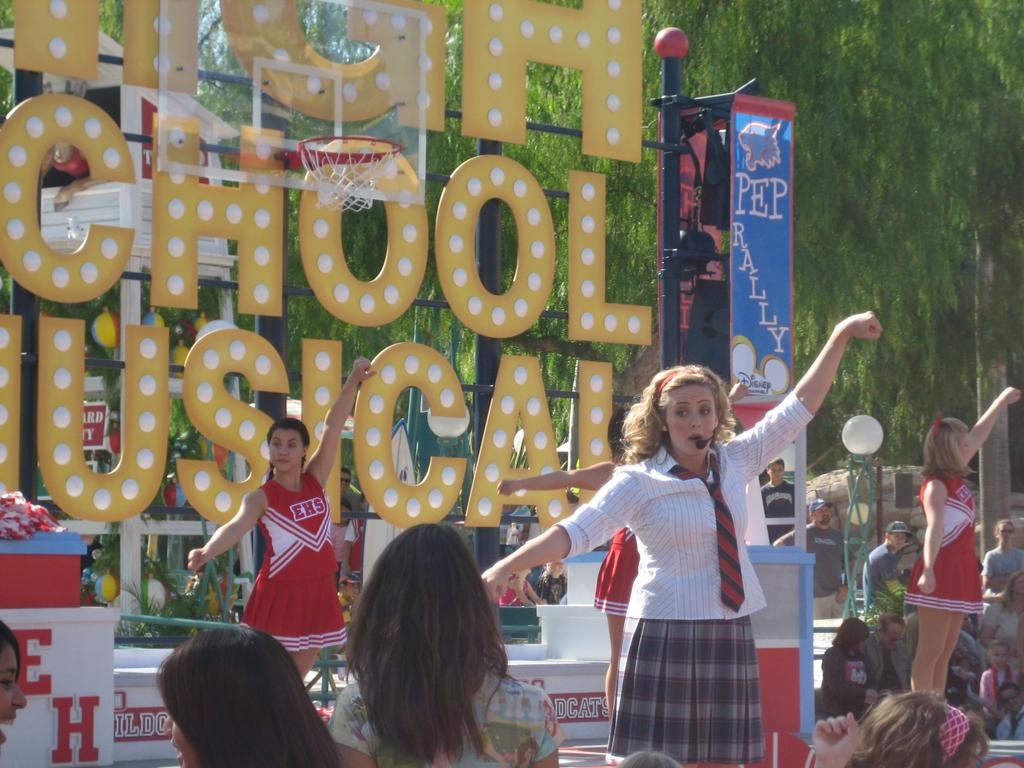human_face: (162, 684, 226, 768), (665, 389, 715, 455), (0, 647, 25, 755), (270, 428, 302, 470), (946, 431, 968, 469), (882, 626, 902, 650), (1002, 691, 1020, 711), (888, 530, 906, 548), (812, 506, 830, 524), (850, 632, 866, 652), (992, 647, 1006, 667), (344, 578, 358, 596), (998, 526, 1012, 542), (769, 464, 783, 478), (506, 572, 520, 586), (1014, 575, 1024, 593), (92, 547, 102, 559), (552, 561, 562, 573), (552, 584, 562, 596)
